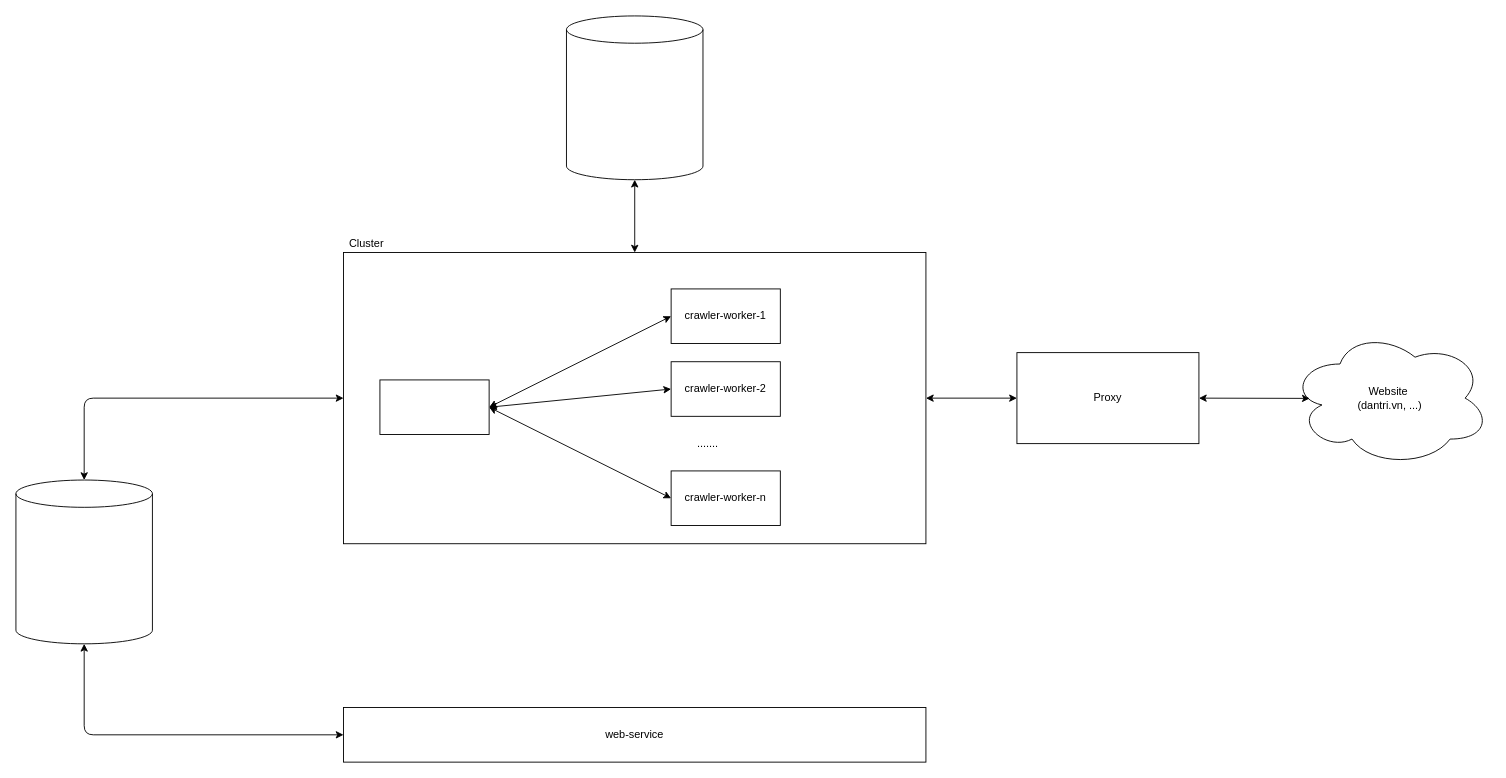
Some shapes in this 1506 by 778 pixel diagram are drawn without their labels. The shapes that lost their labels are listed below. From the top down, each one's centre as x and y in pixels, then its label:
At point 634,97: "Queue (Redis, Kafka,...)".
At point 434,407: "crawler-manager".
At point 83,561: "Database (MongoDB)".
